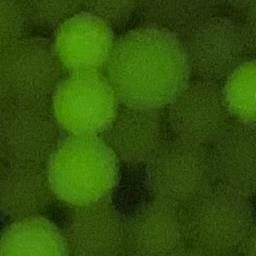negative: (143, 134, 220, 205), (183, 185, 256, 253), (106, 105, 169, 172), (185, 13, 246, 81), (167, 80, 231, 143), (59, 200, 127, 256), (0, 95, 55, 164), (126, 200, 192, 256), (0, 38, 57, 100), (215, 124, 256, 201), (0, 160, 53, 218), (142, 1, 216, 32), (0, 1, 32, 49), (18, 0, 80, 24), (79, 1, 140, 25), (238, 14, 256, 58), (225, 0, 255, 16)
positive: (104, 21, 191, 114), (47, 129, 123, 205), (51, 69, 118, 134), (49, 10, 115, 72), (0, 212, 73, 256), (218, 56, 256, 124)
